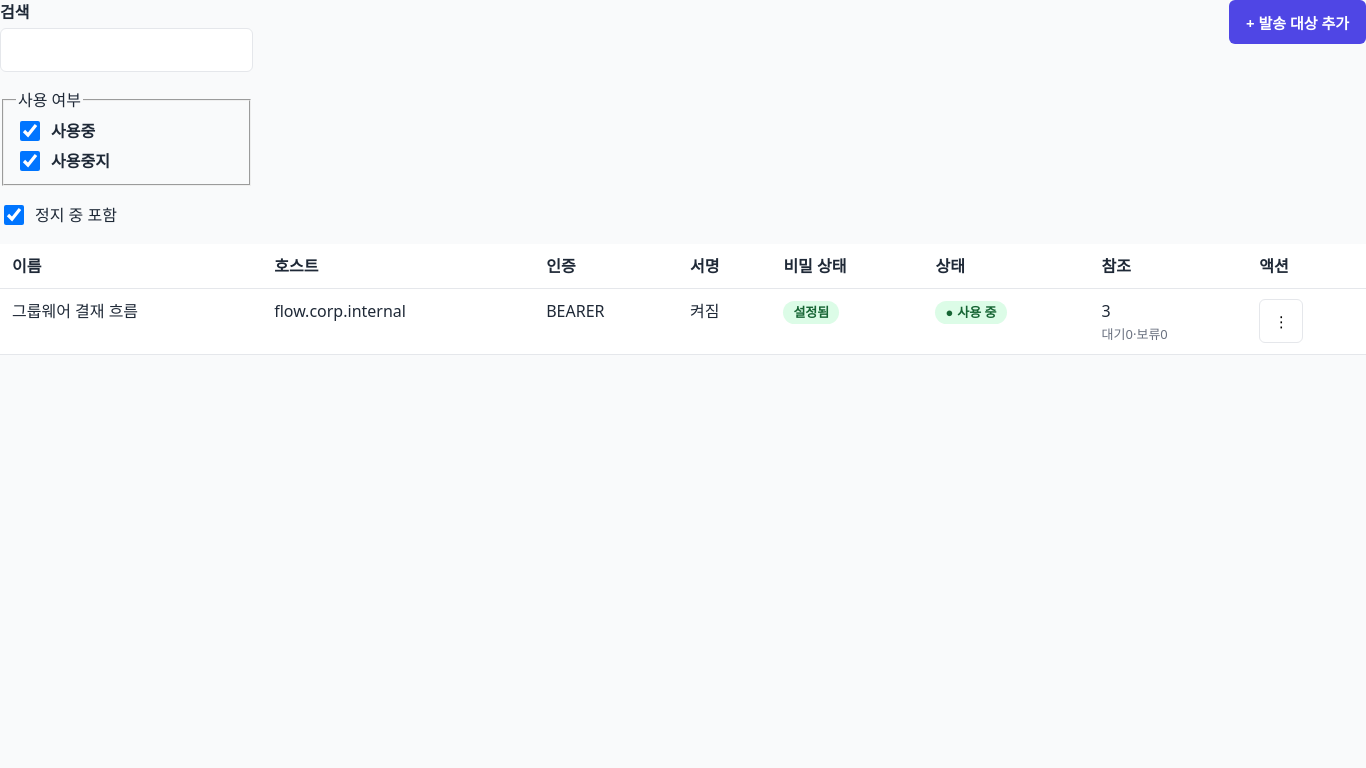
Scenario: WorkflowTargetsPage › 삭제 시 409 WORKFLOW_TARGET_IN_USE면 참조 목록 배너를 보여준다
Click the button named "관리": (1281, 321) [1259, 299, 1303, 343]
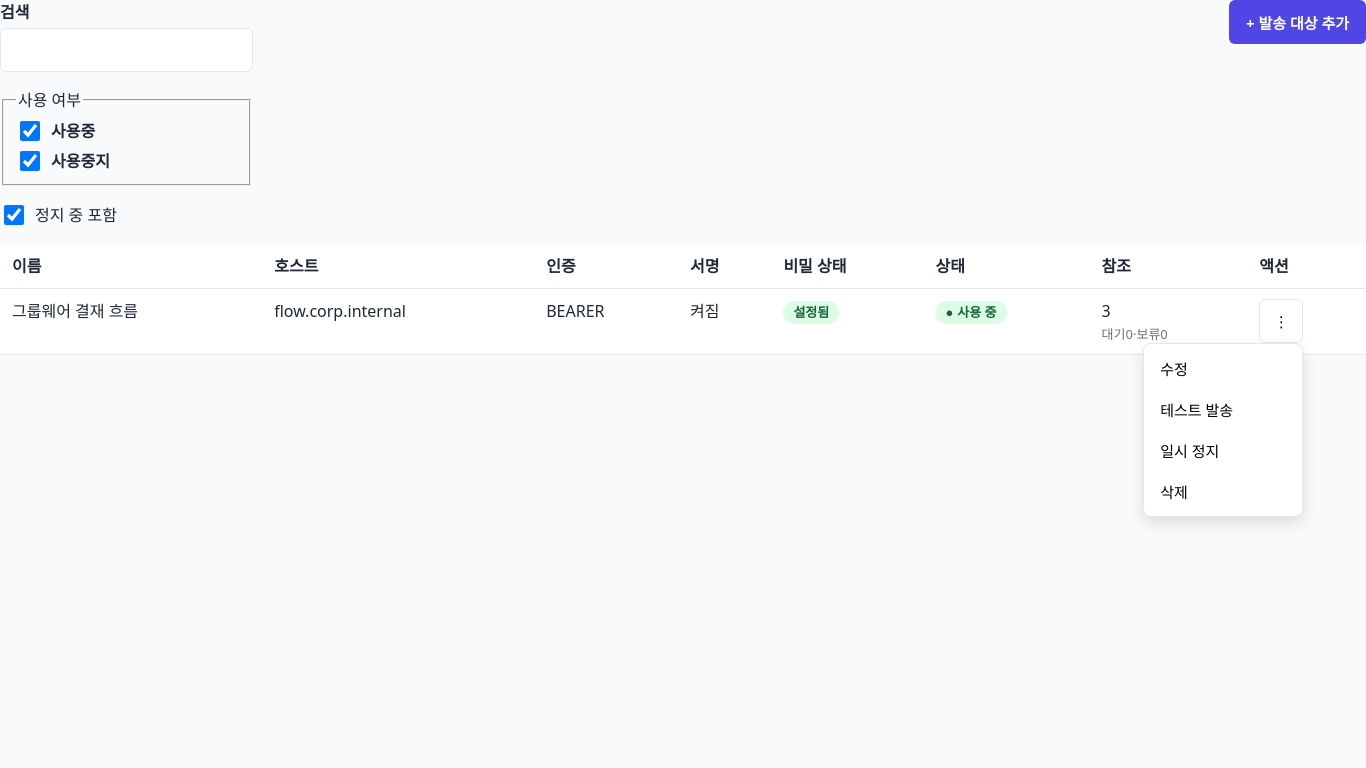
Click the menu item "삭제": (1223, 491) [1148, 471, 1298, 512]
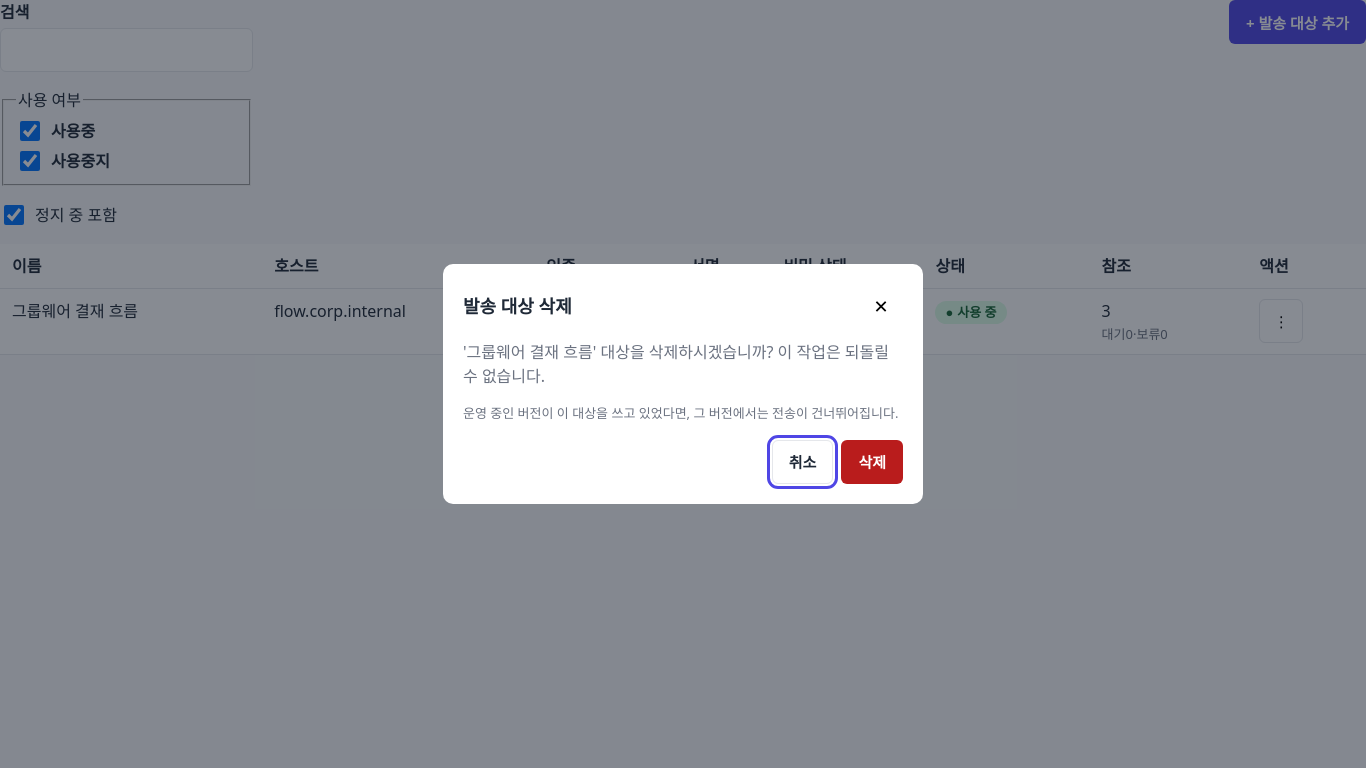
Click the button "삭제": (872, 462) [841, 440, 903, 484]
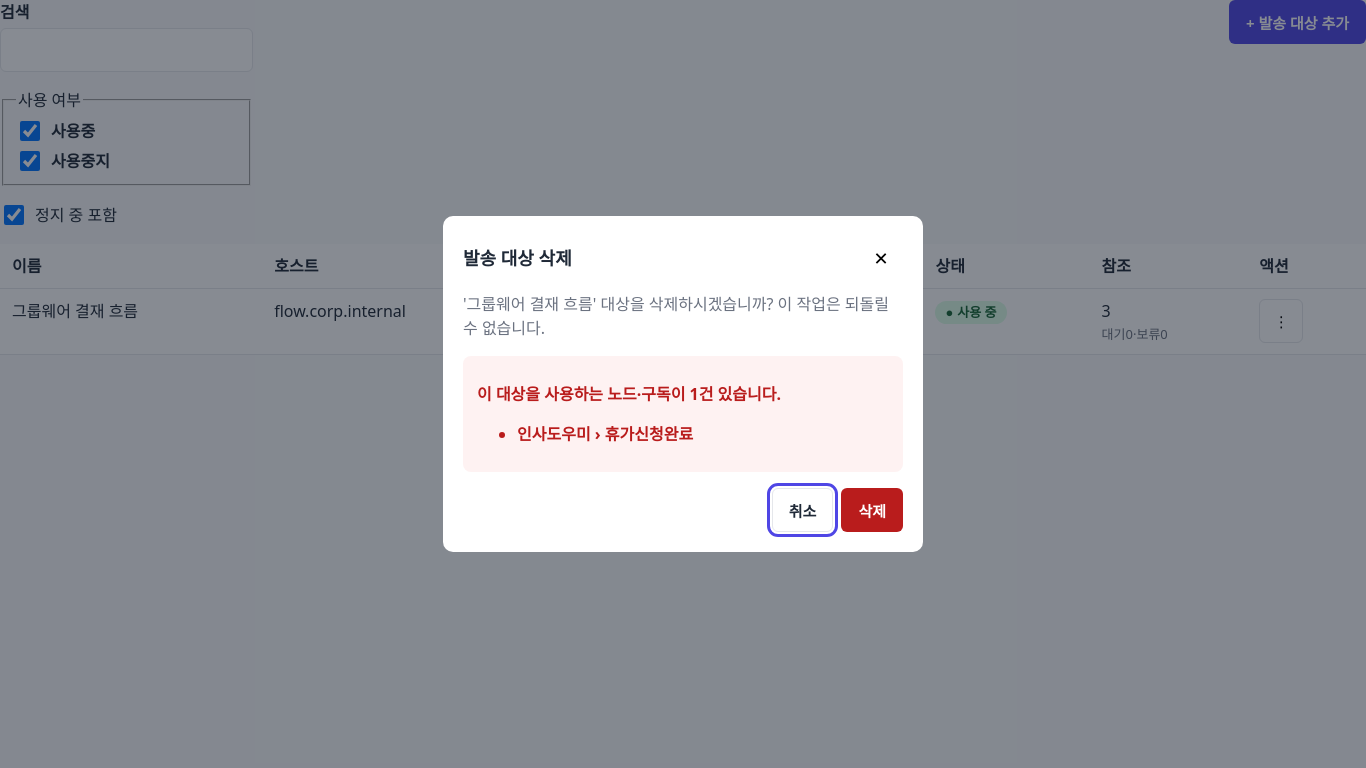
Now the text "이 대상을 사용하는 노드·구독이 1건 있습니다." is shown, box [477, 383, 781, 405]
Now the list item "인사도우미 › 휴가신청완료" is shown, box [517, 423, 693, 445]
